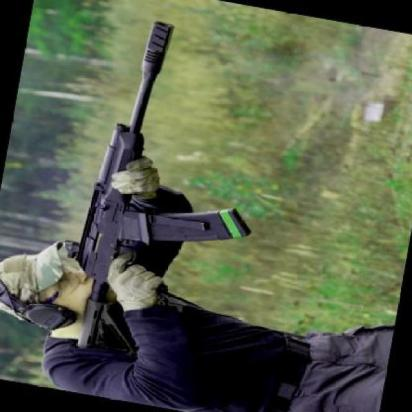Gun: (44, 6, 274, 373)
